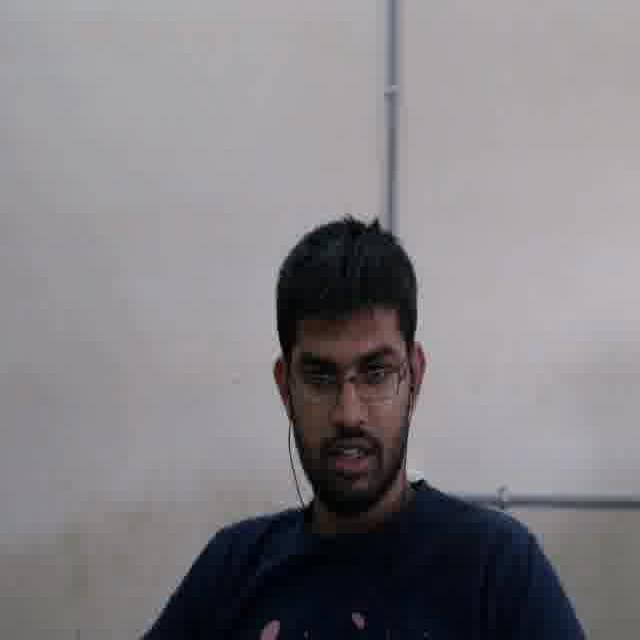Engaged: (288, 304, 407, 501)
